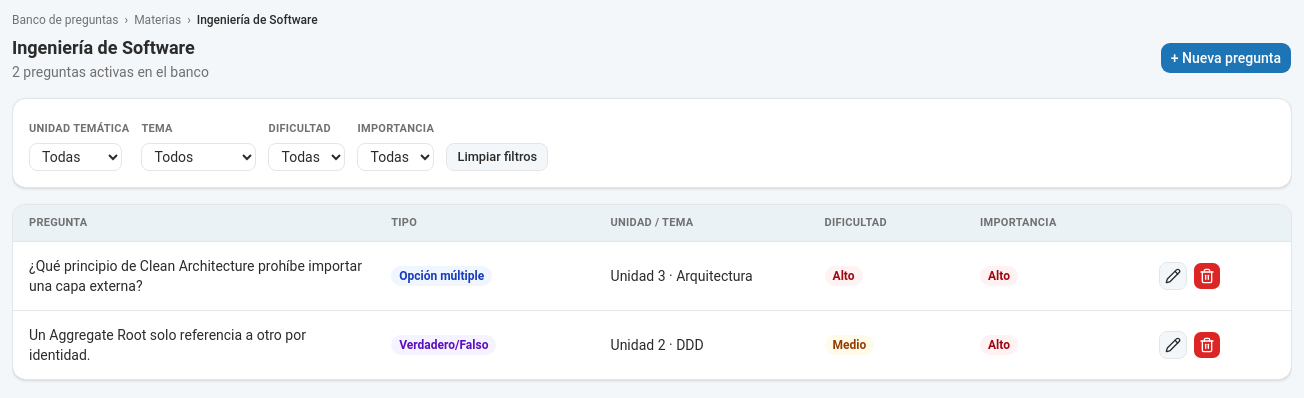
Banco › una combinación de filtros sin resultados deja la tabla vacía sin mensaje de error
This screenshot has width=1304, height=398.
Expected: the text "¿Qué principio de Clean Architecture" is shown, [29,258,362,294]
Select "Bajo" in the dropdown labelled "Dificultad" at (307, 157), box [268,143,346,171]
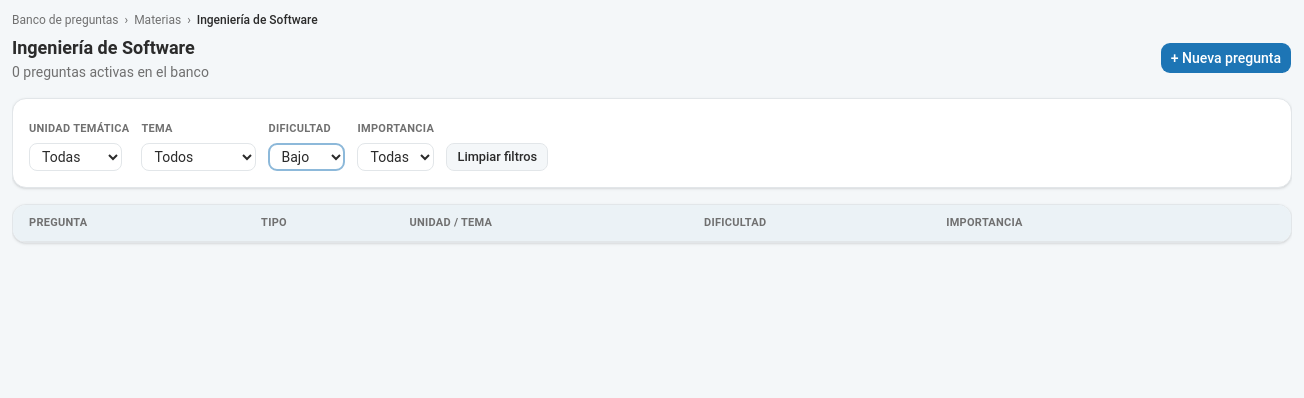
Result: the text "0 preguntas activas en el banco" is shown at [12,62,209,82]
